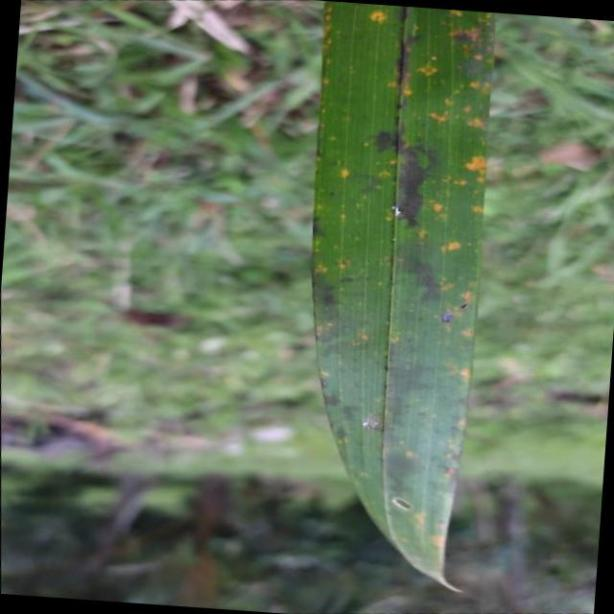Healthy: (313, 2, 494, 588)
